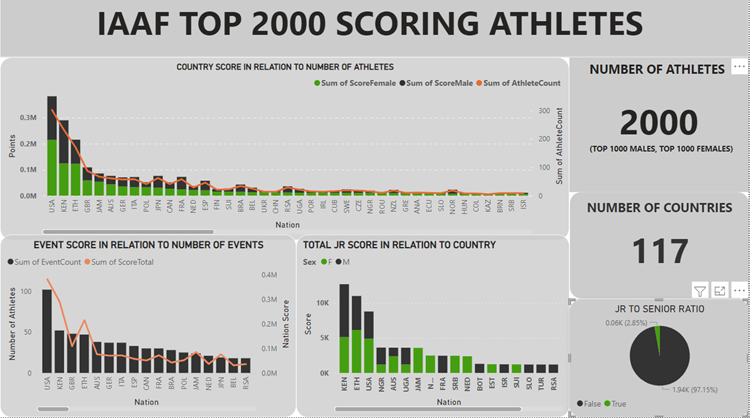

Layout of this report page (visuals, bound fields, positions):
{"tool":"powerbi","page":{"name":"Page 1","canvas":[1280,720],"ordinal":0},"visuals":[{"type":"pieChart","title":"JR TO SENIOR RATIO","fields":{"Y":["CountNonNull(eventrankings rankings.Jr)"],"Category":["eventrankings rankings.Jr"]},"box":[973,517.1,306.8,202.9],"z":0},{"type":"textbox","box":[150,140,300,300],"z":1},{"type":"textbox","box":[973,333.7,306.8,183.4],"z":2},{"type":"lineStackedColumnComboChart","title":"COUNTRY SCORE IN RELATION TO NUMBER OF ATHLETES","fields":{"Category":["eventrankings countrydata.Nat"],"Y":["Sum(eventrankings countrydata.ScoreFemale)","Sum(eventrankings countrydata.ScoreMale)"],"Y2":["Sum(eventrankings countrydata.AthleteCount)"]},"box":[0,103.9,973,312.9],"z":3},{"type":"lineStackedColumnComboChart","title":"EVENT SCORE IN RELATION TO NUMBER OF EVENTS","fields":{"Category":["eventrankings countrydata.Nat"],"Y":["Sum(eventrankings countrydata.EventCount)"],"Y2":["Sum(eventrankings countrydata.ScoreTotal)"]},"box":[0,407.1,506.1,312.9],"z":4},{"type":"lineStackedColumnComboChart","title":"TOTAL JR SCORE IN RELATION TO COUNTRY","fields":{"Category":["eventrankings juniors.Nat"],"Series":["eventrankings juniors.Sex"],"Y":["Sum(eventrankings juniors.Score)"]},"box":[506.1,407.1,467,312.9],"z":5},{"type":"textbox","box":[973,104,307,230],"z":6},{"type":"textbox","box":[0,0,1279.9,103.9],"z":7}]}

Visuals, with their boxes in screenshot pixels (x1, y1, x2, y2), scaled from the page's 1280x720 canvas onto the 752x418 screenshot:
"JR TO SENIOR RATIO" pieChart: [left=572, top=300, right=751, bottom=417]
textbox: [left=88, top=81, right=264, bottom=255]
textbox: [left=572, top=194, right=751, bottom=300]
"COUNTRY SCORE IN RELATION TO NUMBER OF ATHLETES" lineStackedColumnComboChart: [left=0, top=60, right=572, bottom=242]
"EVENT SCORE IN RELATION TO NUMBER OF EVENTS" lineStackedColumnComboChart: [left=0, top=236, right=297, bottom=417]
"TOTAL JR SCORE IN RELATION TO COUNTRY" lineStackedColumnComboChart: [left=297, top=236, right=572, bottom=417]
textbox: [left=572, top=60, right=751, bottom=194]
textbox: [left=0, top=0, right=751, bottom=60]
